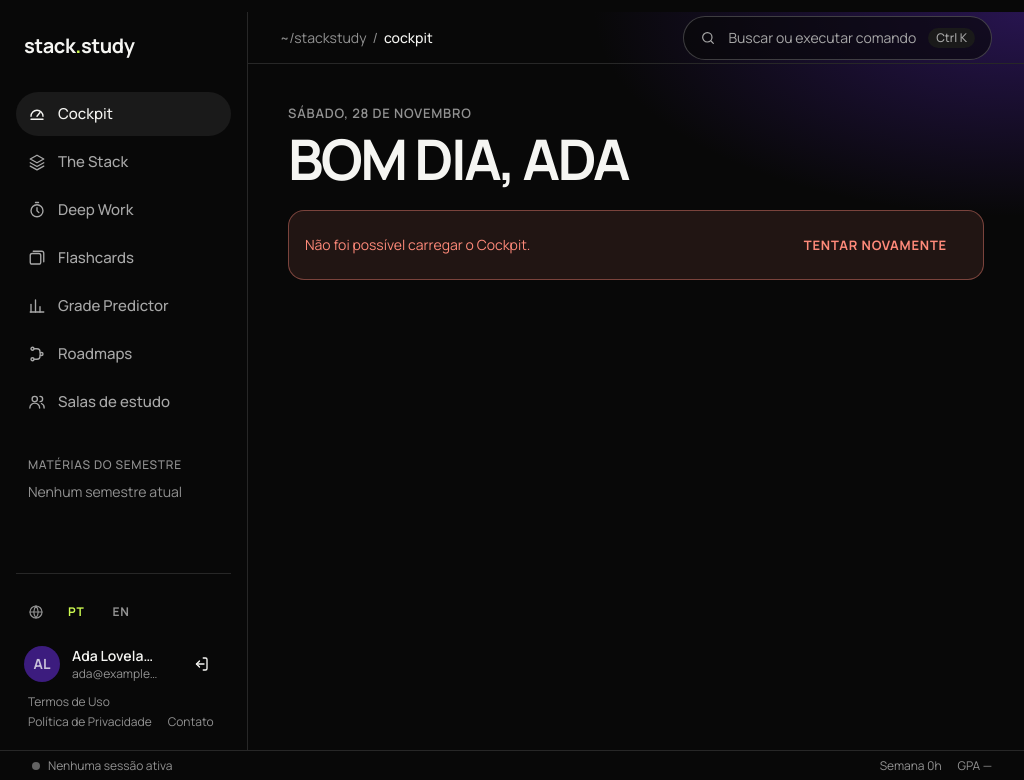
Test: Cockpit › erro com botão de tentar de novo
Expected: the text "Não foi possível carregar o Cockpit." is shown, [305, 235, 530, 254]
Click the button "Tentar novamente" at (875, 245), box [784, 223, 967, 267]
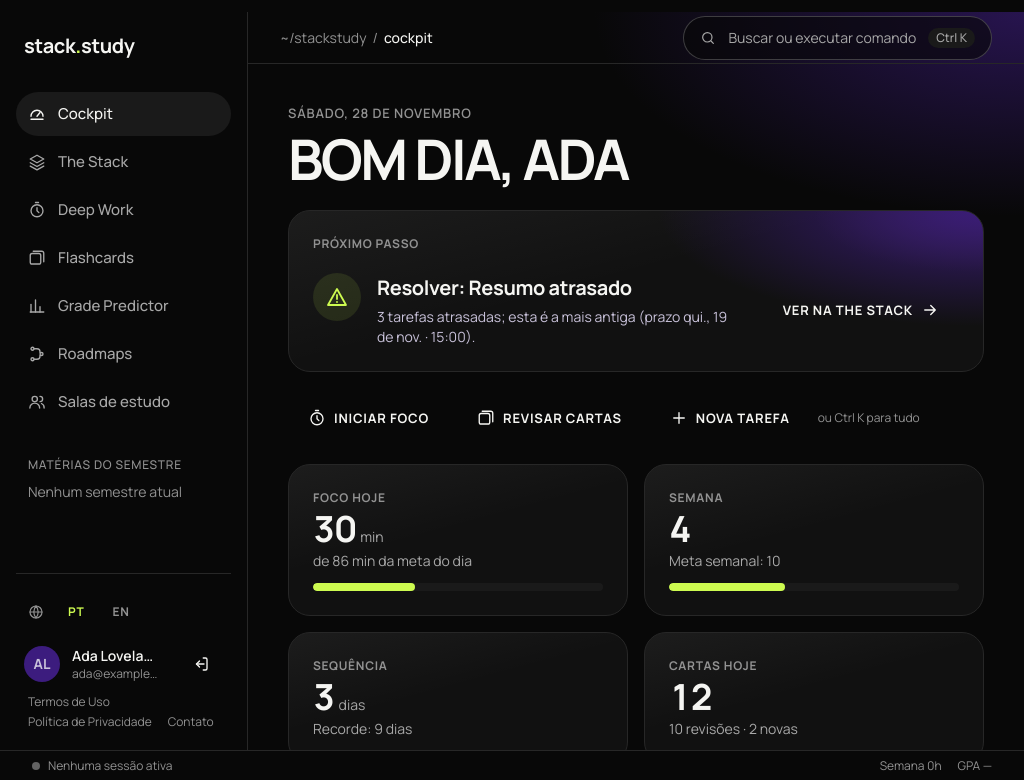
Now the element "Próximo passo" is shown, box [288, 210, 984, 372]
